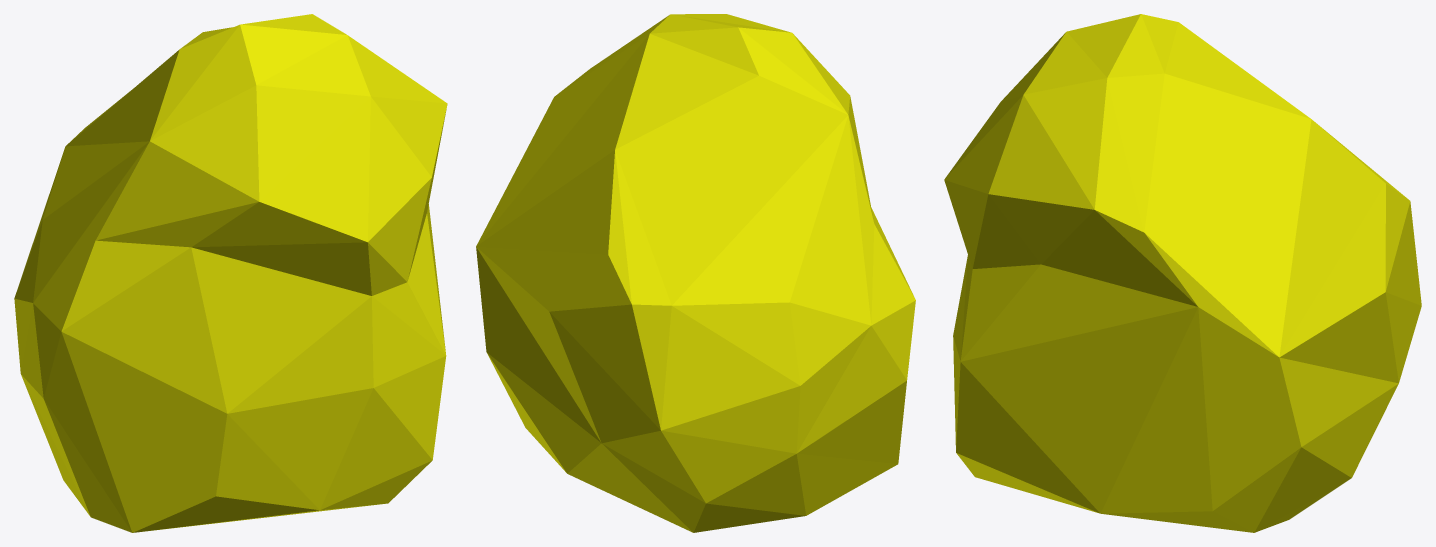
The model's file is SM_Env_Bush_04.glb.
3 renders of one model, left to right at view 1: azimuth 30°, elevation 25°; view 2: azimuth 150°, elevation 25°; view 3: azimuth 270°, elevation 25°, orthographic. The views are drawn at different scales.
Visible parts, largest first — view 1: SM_Env_Bush_04; view 2: SM_Env_Bush_04; view 3: SM_Env_Bush_04.
Part boxes in pixels (x1=…): SM_Env_Bush_04: x1=14, y1=14, x2=447, y2=532; SM_Env_Bush_04: x1=476, y1=14, x2=915, y2=532; SM_Env_Bush_04: x1=944, y1=14, x2=1421, y2=532.
Size of the model in its own units: 1.17 by 1.29 by 1.2.
Materials: 1 (1 with a texture image).
